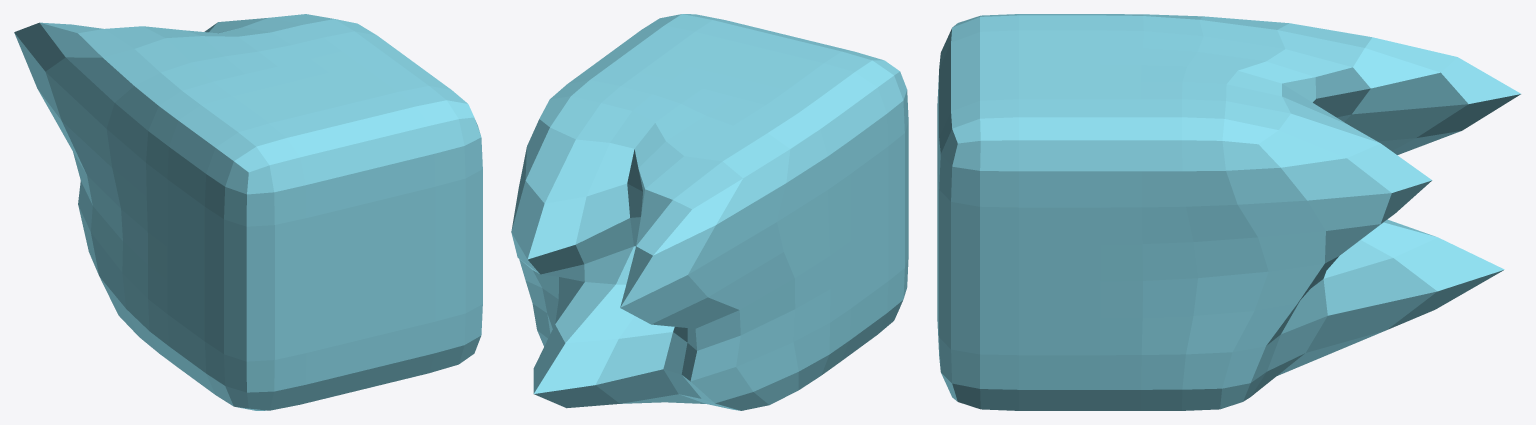
File: iceWall4.fbx
3 renders of one model, left to right at view 1: azimuth 30°, elevation 25°; view 2: azimuth 150°, elevation 25°; view 3: azimuth 270°, elevation 25°, orthographic. The views are drawn at different scales.
Visible parts, largest first — view 1: wall_100HP; view 2: wall_100HP; view 3: wall_100HP.
Part boxes in pixels (<box>): wall_100HP: <box>14,14,482,410</box>; wall_100HP: <box>511,14,908,410</box>; wall_100HP: <box>937,14,1520,410</box>.
Size of the model in its own units: 100 by 100 by 179.
